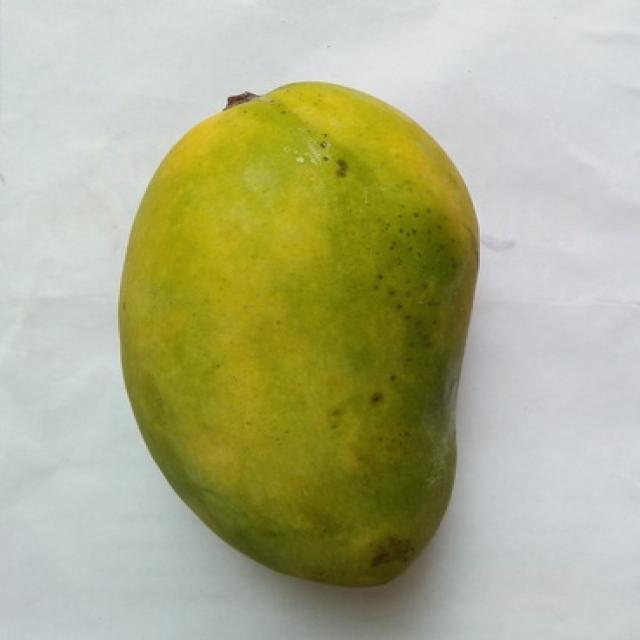Mango: (118, 83, 477, 584)
